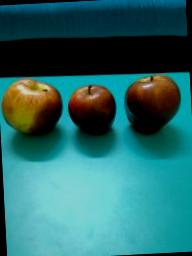Apple Overripe: (0, 58, 67, 145)
Apple Ripe: (65, 70, 119, 156)
Apple Unripe: (124, 62, 179, 140)
